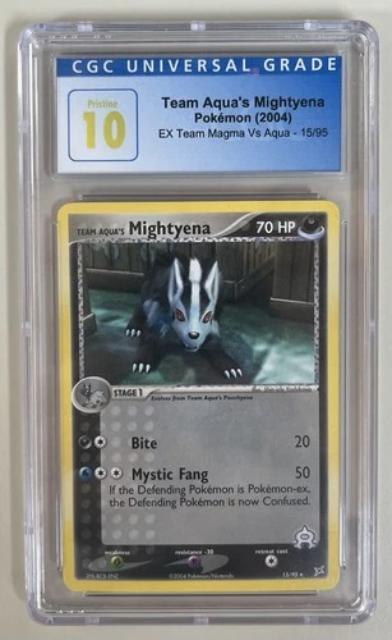Card: (51, 191, 342, 591)
Name: (74, 211, 212, 239)
